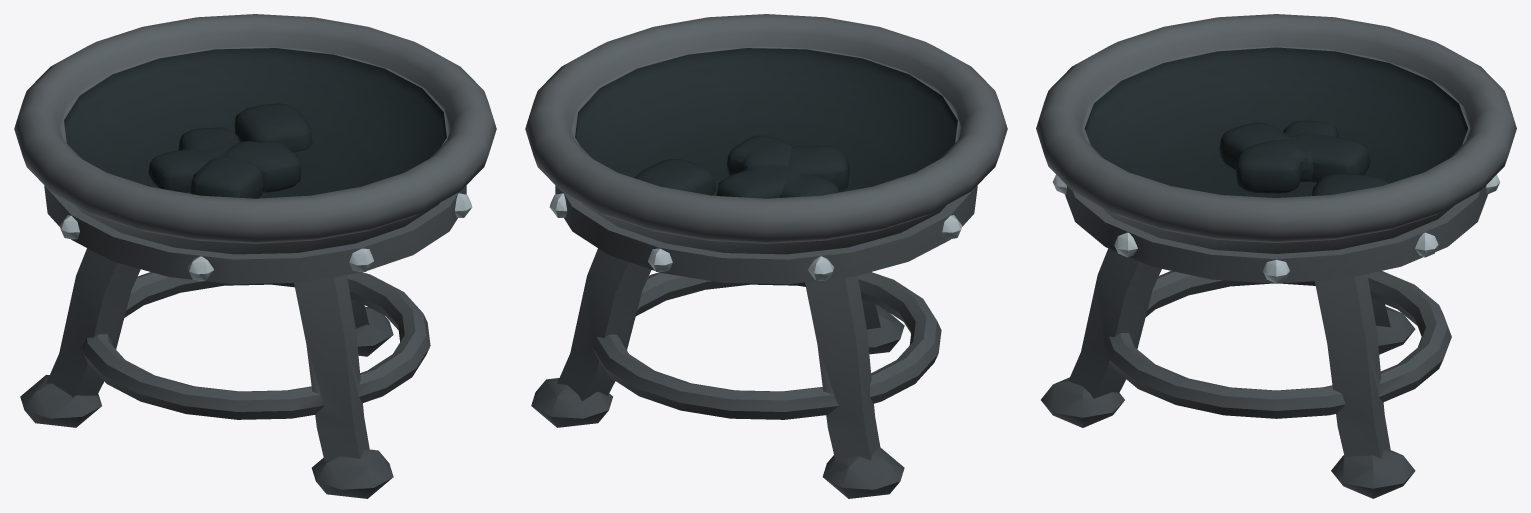
The model's file is brazier.glb.
The picture shows the model from 3 angles, left to right: view 1: azimuth 30°, elevation 25°; view 2: azimuth 150°, elevation 25°; view 3: azimuth 270°, elevation 25°; orthographic projection.
Parts seen in each view (by area): view 1: brazier; view 2: brazier; view 3: brazier.
Boxes of the visible parts, x1,y1,x2,y2 form: brazier: (14,14,496,498); brazier: (525,14,1007,498); brazier: (1036,14,1516,498).
Size of the model in its own units: 1.59 by 1.14 by 1.59.
Materials: 1 (1 with a texture image).
